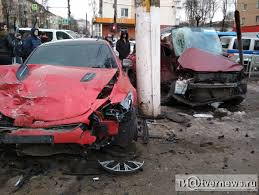car: (13, 42, 133, 164), (159, 26, 249, 111)
